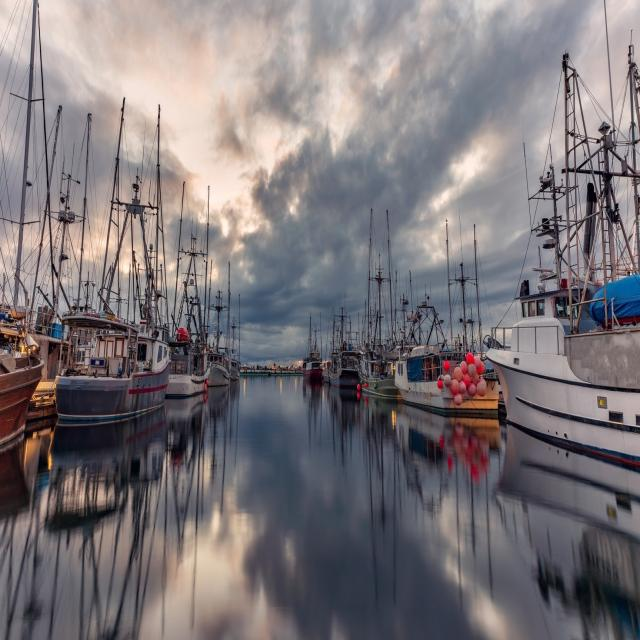fishing boat: (477, 70, 640, 453), (54, 187, 174, 425), (384, 329, 490, 430)
